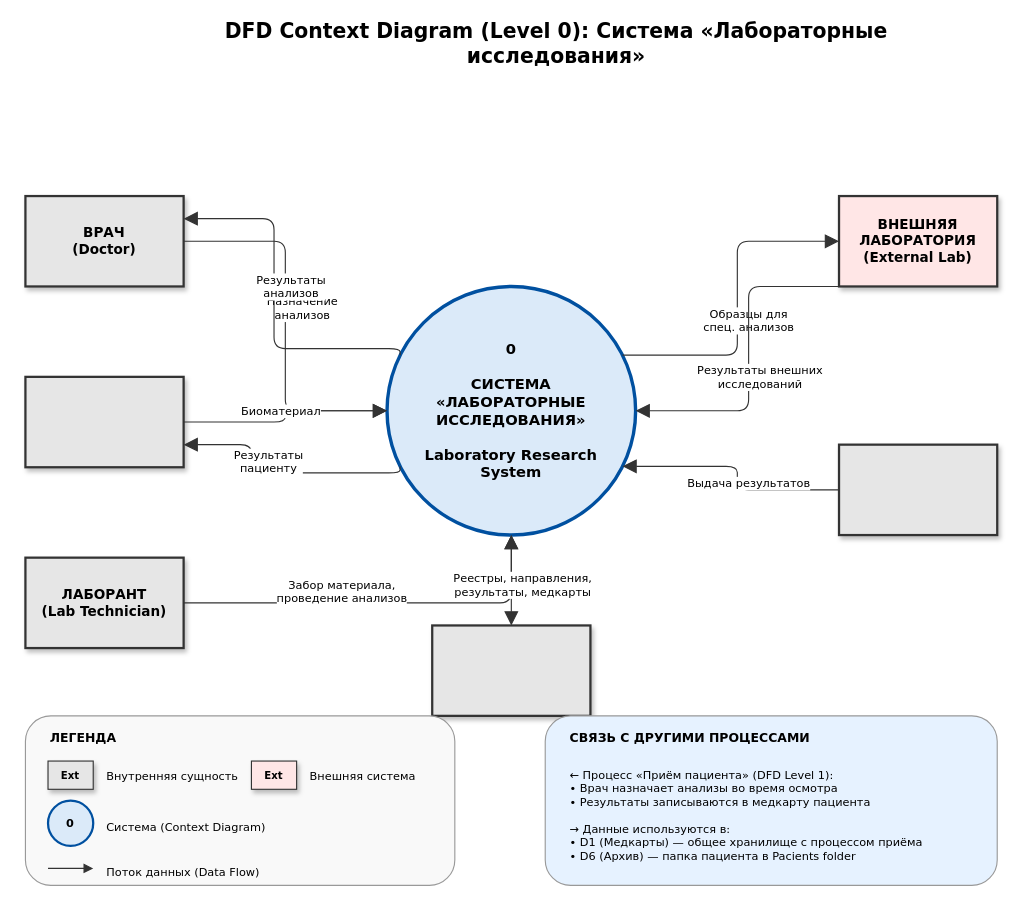
Image size: 1024x905. Some labels were removed from this diagram. The centre of each missing label's shape, as x and y in pixels:
"АДМИНИСТРАТОР (Receptionist)" goes at pixel 919 491.
"ПАЦИЕНТ (Patient)" goes at pixel 105 423.
"ФАЙЛОВОЕ ХРАНИЛИЩЕ (File Server)" goes at pixel 512 671.
